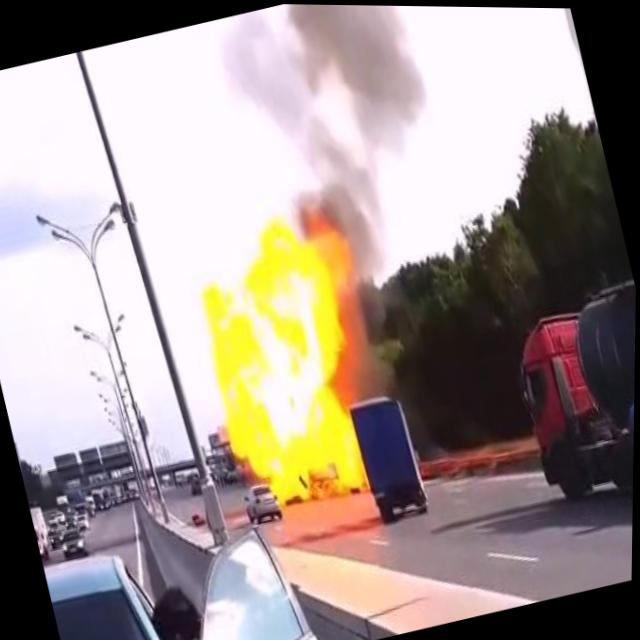fire: (175, 205, 384, 520)
